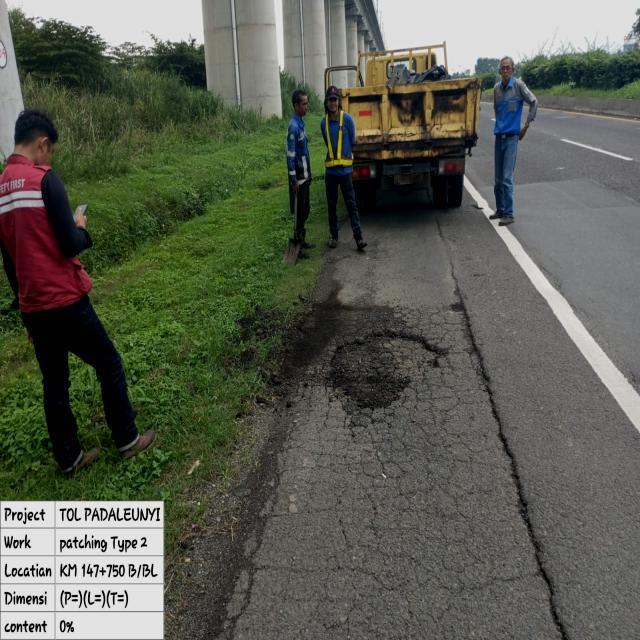Buraco: (321, 326, 452, 417)
